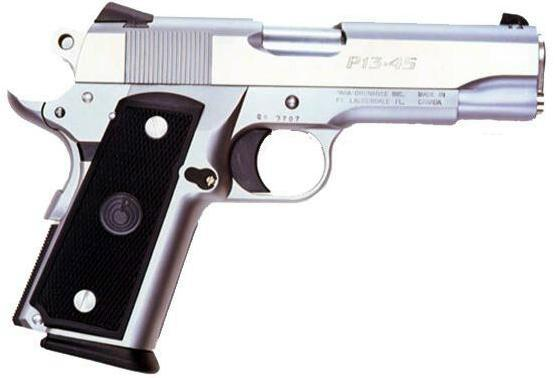gun: (8, 0, 555, 375)
